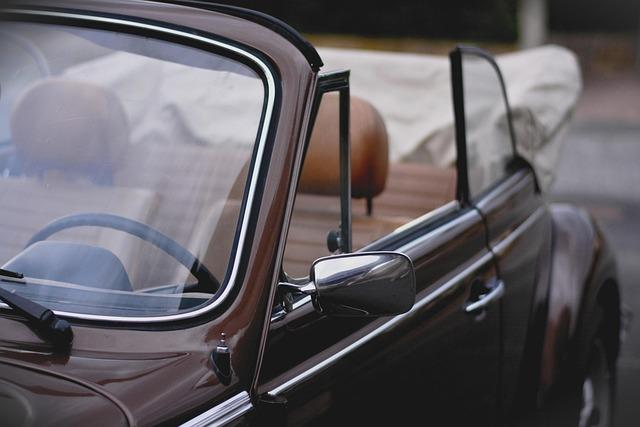Non_Gorille: (6, 0, 618, 427)
